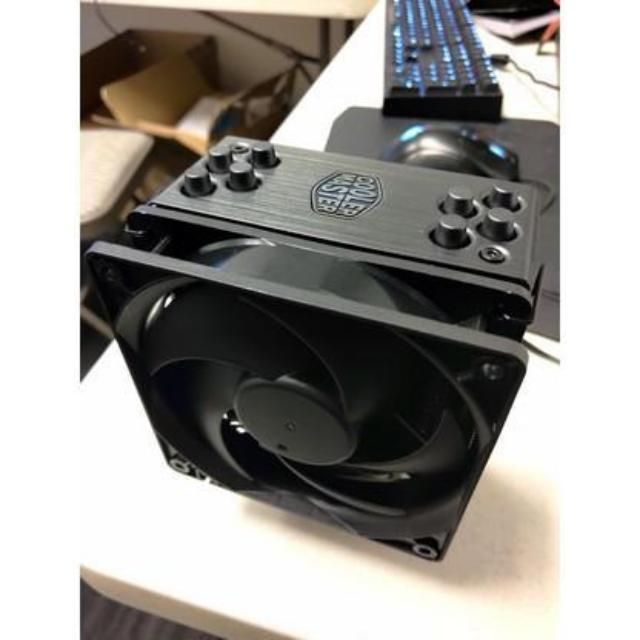CPU_Fan: (84, 130, 546, 568)
